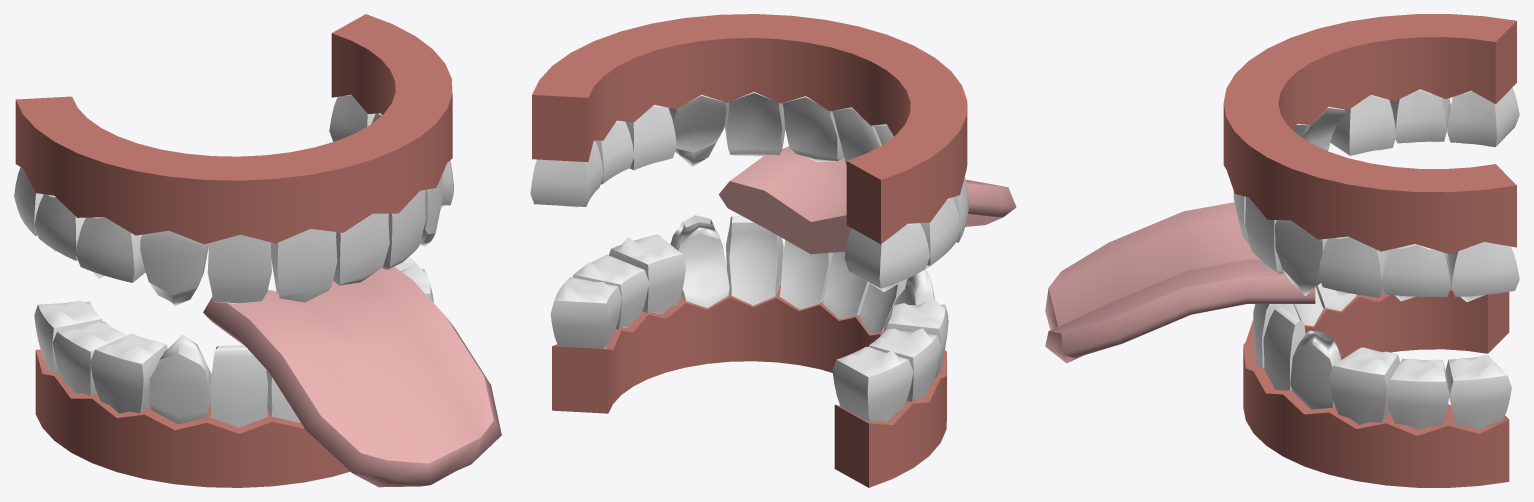
The model's file is Teeth_v01.fbx.
The picture shows the model from 3 angles, left to right: view 1: azimuth 30°, elevation 25°; view 2: azimuth 150°, elevation 25°; view 3: azimuth 270°, elevation 25°; orthographic projection. The views are drawn at different scales.
Visible parts, largest first — view 1: Teeth, pCube38; view 2: Teeth, pCube38; view 3: Teeth, pCube38.
Boxes of the visible parts, bbox=[...] form: Teeth: bbox=[14, 14, 453, 487]; pCube38: bbox=[203, 266, 501, 487]; Teeth: bbox=[530, 14, 968, 487]; pCube38: bbox=[719, 146, 1016, 254]; Teeth: bbox=[1223, 14, 1519, 487]; pCube38: bbox=[1045, 202, 1315, 363].
Size of the model in its own units: 6.2 by 5.13 by 6.92.
